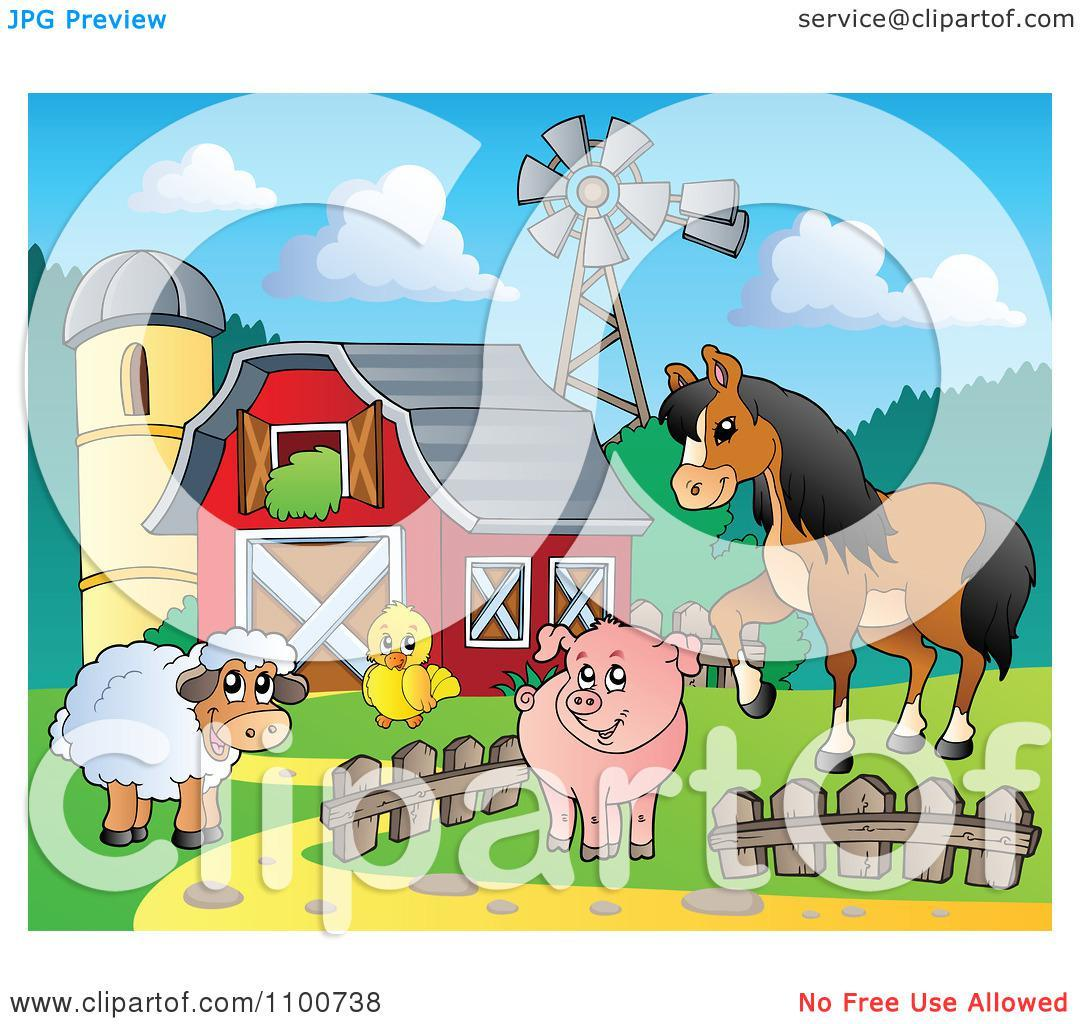bird: (345, 597, 464, 735)
horse: (640, 326, 1036, 773)
sheep: (40, 623, 308, 850)
